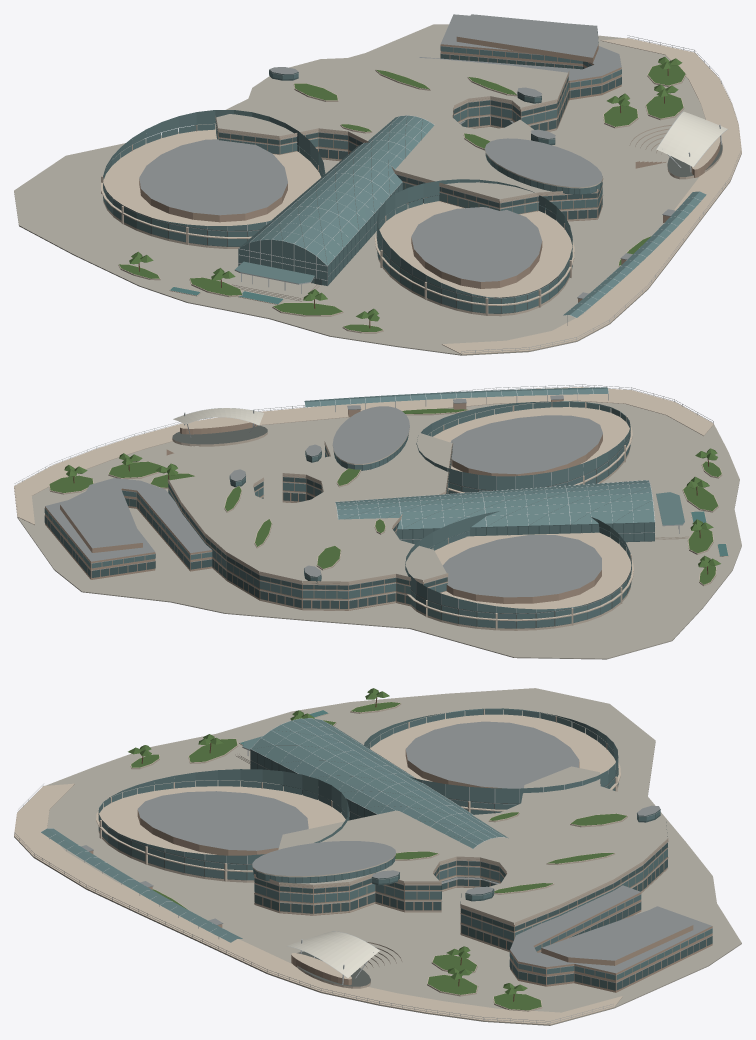
File: sg-esplanade-base.glb
3 renders of one model, top to bottom at view 1: azimuth 30°, elevation 25°; view 2: azimuth 150°, elevation 25°; view 3: azimuth 270°, elevation 25°, orthographic. The views are drawn at different scales.
Visible parts, largest first — view 1: Waterfront_Terrace_and_Forecourt_Paving, Esplanade_Mall_Stone_Terraces, Theatre_Podium_and_Stone_Bands, Concert_Hall_Podium_and_Stone_Bands, Concourse_Arched_Glass_and_Curtain_Wall, Waterfront_Seawall_Coping_and_Railings, Esplanade_Annexe_Studio, Esplanade_Mall_Shopfronts_and_West_Frontage, Forecourt_Garden_and_Reflecting_Pools, Concert_Hall_Curved_Glass_Foyer, Theatre_Curved_Glass_Foyer, Esplanade_Mall_Roof_Garden_and_Arcade (+6 smaller); view 2: Waterfront_Terrace_and_Forecourt_Paving, Esplanade_Mall_Stone_Terraces, Theatre_Podium_and_Stone_Bands, Concourse_Arched_Glass_and_Curtain_Wall, Esplanade_Annexe_Studio, Concert_Hall_Podium_and_Stone_Bands, Waterfront_Seawall_Coping_and_Railings, Esplanade_Mall_Shopfronts_and_West_Frontage, Theatre_Curved_Glass_Foyer, Forecourt_Garden_and_Reflecting_Pools, Concert_Hall_Curved_Glass_Foyer, Waterfront_Canopy_and_Kiosks (+6 smaller); view 3: Waterfront_Terrace_and_Forecourt_Paving, Esplanade_Mall_Stone_Terraces, Concert_Hall_Podium_and_Stone_Bands, Esplanade_Annexe_Studio, Theatre_Podium_and_Stone_Bands, Concourse_Arched_Glass_and_Curtain_Wall, Waterfront_Seawall_Coping_and_Railings, Esplanade_Mall_Shopfronts_and_West_Frontage, Concert_Hall_Curved_Glass_Foyer, Forecourt_Garden_and_Reflecting_Pools, Theatre_Curved_Glass_Foyer, Esplanade_Mall_Roof_Garden_and_Arcade (+5 smaller).
Part boxes in pixels (x1=…): Waterfront_Terrace_and_Forecourt_Paving: x1=14, y1=24, x2=741, y2=355; Esplanade_Mall_Stone_Terraces: x1=215, y1=56, x2=603, y2=221; Theatre_Podium_and_Stone_Bands: x1=101, y1=125, x2=321, y2=248; Concert_Hall_Podium_and_Stone_Bands: x1=374, y1=201, x2=574, y2=316; Concourse_Arched_Glass_and_Curtain_Wall: x1=238, y1=115, x2=434, y2=285; Waterfront_Seawall_Coping_and_Railings: x1=441, y1=35, x2=741, y2=354; Esplanade_Annexe_Studio: x1=419, y1=14, x2=621, y2=100; Esplanade_Mall_Shopfronts_and_West_Frontage: x1=216, y1=76, x2=602, y2=219; Forecourt_Garden_and_Reflecting_Pools: x1=118, y1=57, x2=686, y2=333; Concert_Hall_Curved_Glass_Foyer: x1=376, y1=179, x2=572, y2=313; Theatre_Curved_Glass_Foyer: x1=103, y1=110, x2=325, y2=246; Esplanade_Mall_Roof_Garden_and_Arcade: x1=269, y1=67, x2=555, y2=150; Waterfront_Terrace_and_Forecourt_Paving: x1=14, y1=401, x2=741, y2=659; Esplanade_Mall_Stone_Terraces: x1=167, y1=406, x2=453, y2=610; Theatre_Podium_and_Stone_Bands: x1=407, y1=532, x2=633, y2=630; Concourse_Arched_Glass_and_Curtain_Wall: x1=335, y1=480, x2=654, y2=547; Esplanade_Annexe_Studio: x1=44, y1=478, x2=212, y2=579; Concert_Hall_Podium_and_Stone_Bands: x1=433, y1=401, x2=632, y2=493; Waterfront_Seawall_Coping_and_Railings: x1=14, y1=384, x2=713, y2=524; Esplanade_Mall_Shopfronts_and_West_Frontage: x1=168, y1=434, x2=452, y2=608; Theatre_Curved_Glass_Foyer: x1=405, y1=511, x2=631, y2=628; Forecourt_Garden_and_Reflecting_Pools: x1=49, y1=408, x2=728, y2=586; Concert_Hall_Curved_Glass_Foyer: x1=416, y1=401, x2=630, y2=493; Waterfront_Canopy_and_Kiosks: x1=304, y1=387, x2=608, y2=417; Waterfront_Terrace_and_Forecourt_Paving: x1=14, y1=688, x2=741, y2=1025; Esplanade_Mall_Stone_Terraces: x1=252, y1=766, x2=668, y2=951; Concert_Hall_Podium_and_Stone_Bands: x1=96, y1=782, x2=345, y2=882; Esplanade_Annexe_Studio: x1=509, y1=885, x2=712, y2=992; Theatre_Podium_and_Stone_Bands: x1=370, y1=708, x2=620, y2=813; Concourse_Arched_Glass_and_Curtain_Wall: x1=250, y1=718, x2=508, y2=848; Waterfront_Seawall_Coping_and_Railings: x1=14, y1=783, x2=622, y2=1024; Esplanade_Mall_Shopfronts_and_West_Frontage: x1=253, y1=781, x2=667, y2=950; Concert_Hall_Curved_Glass_Foyer: x1=98, y1=769, x2=349, y2=880; Forecourt_Garden_and_Reflecting_Pools: x1=128, y1=688, x2=542, y2=1011; Theatre_Curved_Glass_Foyer: x1=364, y1=708, x2=618, y2=814; Esplanade_Mall_Roof_Garden_and_Arcade: x1=371, y1=805, x2=660, y2=901.
Bounding box in the file's own units: 261 × 14.16 × 239.
